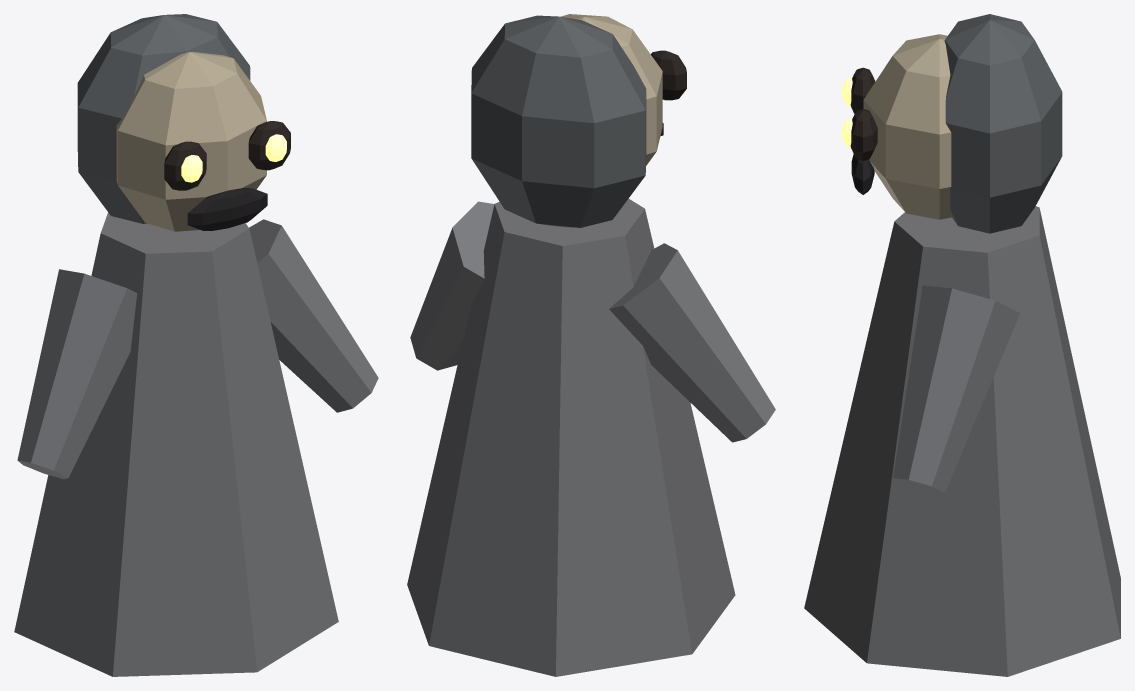
The model's file is fauna-greybarrow_wightling.glb.
The picture shows the model from 3 angles, left to right: view 1: azimuth 30°, elevation 25°; view 2: azimuth 150°, elevation 25°; view 3: azimuth 270°, elevation 25°; orthographic projection.
Parts seen in each view (by area): view 1: Fauna_greybarrow_wightling; view 2: Fauna_greybarrow_wightling; view 3: Fauna_greybarrow_wightling.
Part boxes in pixels (x1,y1,x2,y2): Fauna_greybarrow_wightling: (14, 14, 378, 676); Fauna_greybarrow_wightling: (407, 14, 775, 676); Fauna_greybarrow_wightling: (804, 14, 1120, 676).
Size of the model in its own units: 1.17 by 1.87 by 0.9125.
